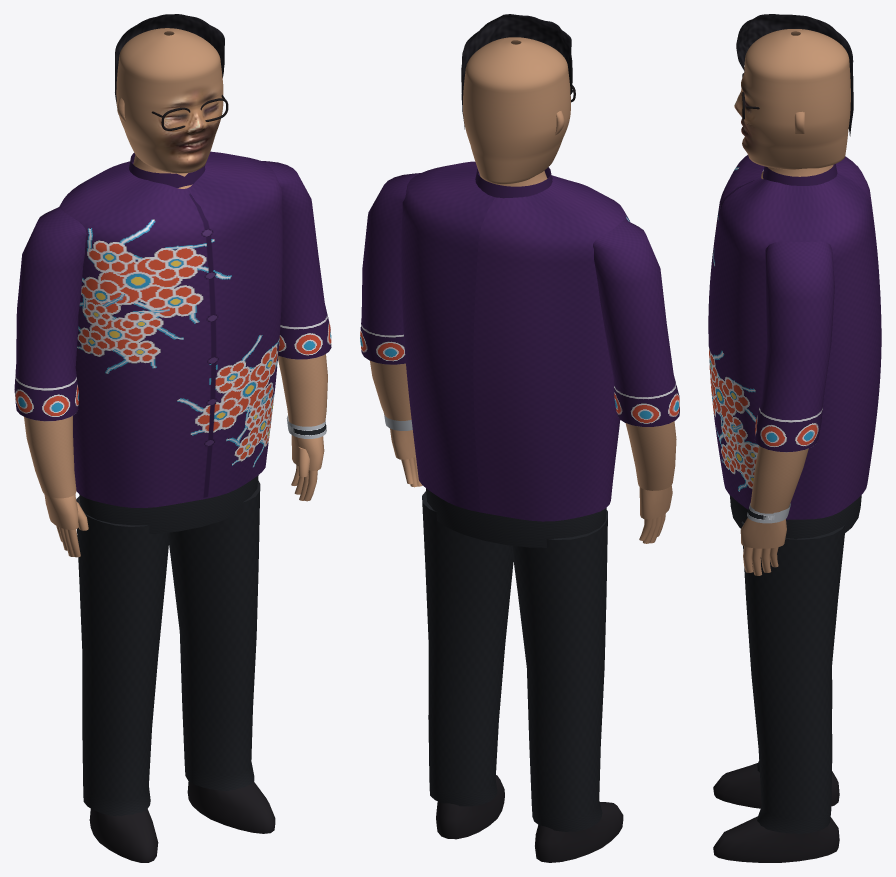
File: npc_amru.glb
3 views of the same model, side by side, from view 1: azimuth 30°, elevation 25°; view 2: azimuth 150°, elevation 25°; view 3: azimuth 270°, elevation 25° (orthographic).
Parts seen in each view (by area): view 1: NPC_Watak_Saya_Kampung; view 2: NPC_Watak_Saya_Kampung; view 3: NPC_Watak_Saya_Kampung.
Boxes of the visible parts, x1,y1,x2,y2 form: NPC_Watak_Saya_Kampung: [14, 14, 331, 862]; NPC_Watak_Saya_Kampung: [360, 14, 679, 862]; NPC_Watak_Saya_Kampung: [708, 14, 881, 862].
Size of the model in its own units: 0.696 by 1.72 by 0.3362.
Materials: 1 (1 with a texture image).
